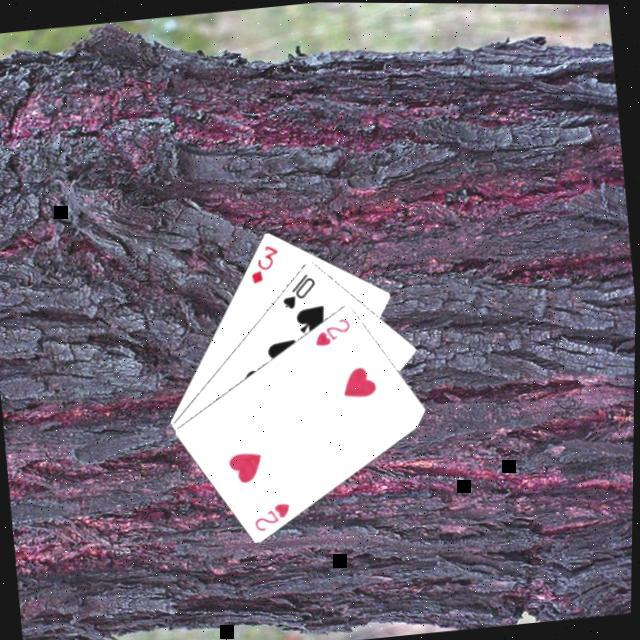10S: (275, 269, 320, 313)
2H: (309, 314, 355, 350), (249, 498, 295, 534)
3D: (243, 240, 284, 288)
